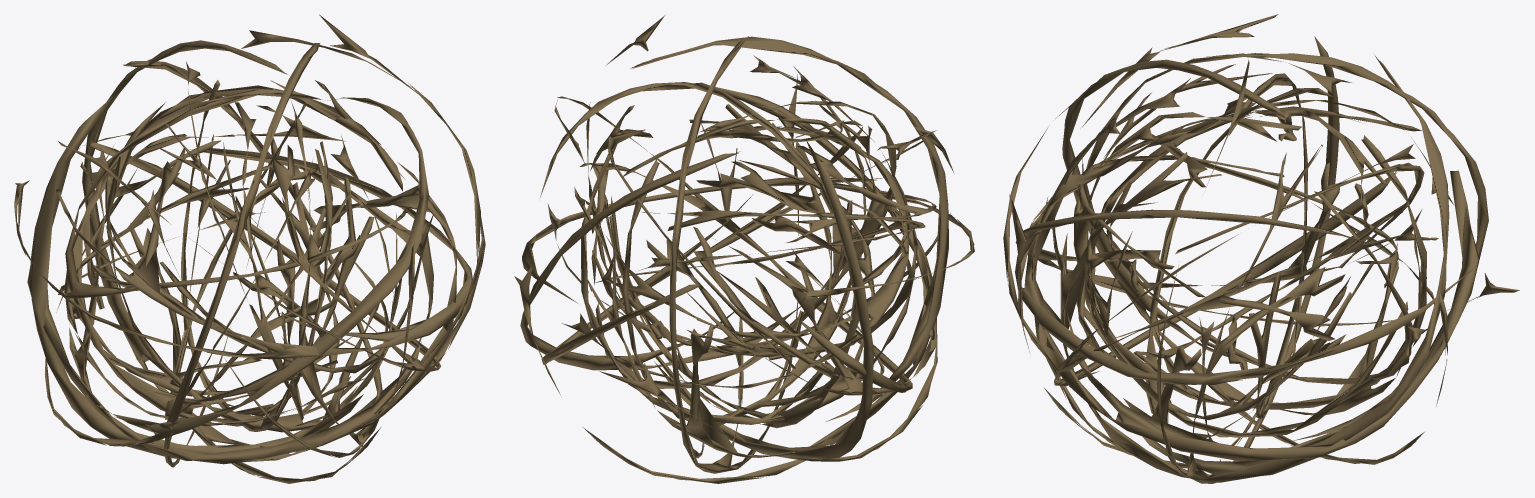
File: plant-7-near.glb
3 renders of one model, left to right at view 1: azimuth 30°, elevation 25°; view 2: azimuth 150°, elevation 25°; view 3: azimuth 270°, elevation 25°, orthographic. The views are drawn at different scales.
Visible parts, largest first — view 1: Plane.007_Material.001_0; view 2: Plane.007_Material.001_0; view 3: Plane.007_Material.001_0.
Boxes of the visible parts, x1,y1,x2,y2 form: Plane.007_Material.001_0: (14, 14, 485, 483); Plane.007_Material.001_0: (514, 15, 974, 483); Plane.007_Material.001_0: (1003, 14, 1519, 483).
Size of the model in its own units: 0.4461 by 0.4594 by 0.4767.
